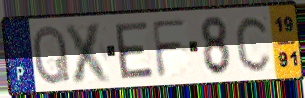8: (199, 15, 233, 77)
C: (234, 13, 274, 75)
E: (112, 19, 156, 81)
F: (149, 16, 190, 80)
Q: (31, 23, 72, 88)
X: (63, 20, 115, 85)
